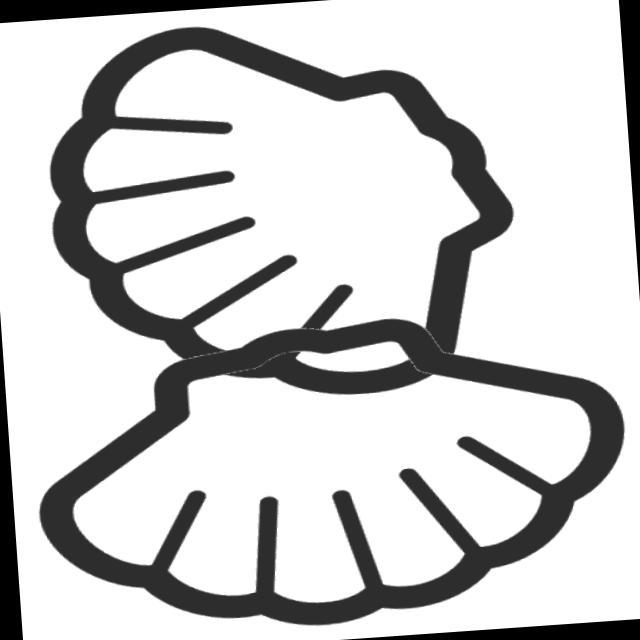shell: (19, 296, 640, 640), (30, 1, 535, 424)
